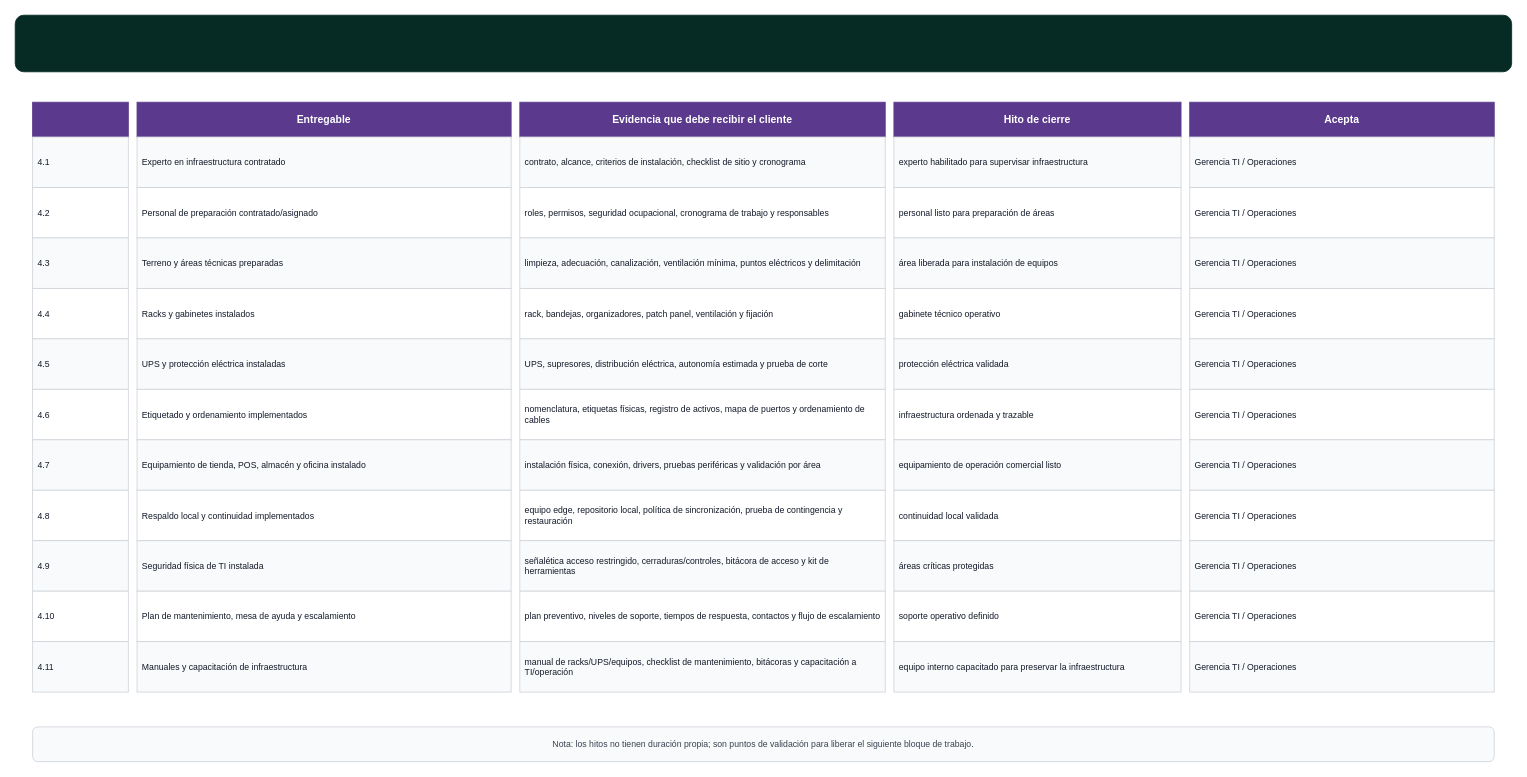
Image size: 1527x777. Some labels were removed from this diagram. The centre of each missing label's shape, as x and y in pixels:
4.0 INFRAESTRUCTURA — Hitos, evidencias y aceptación: the point at 763,43
WBS: the point at 80,119
